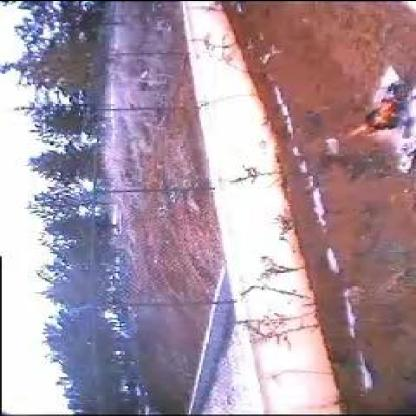foggia-v2-map80-epoch100 - v1 4323: (355, 97, 397, 136)
